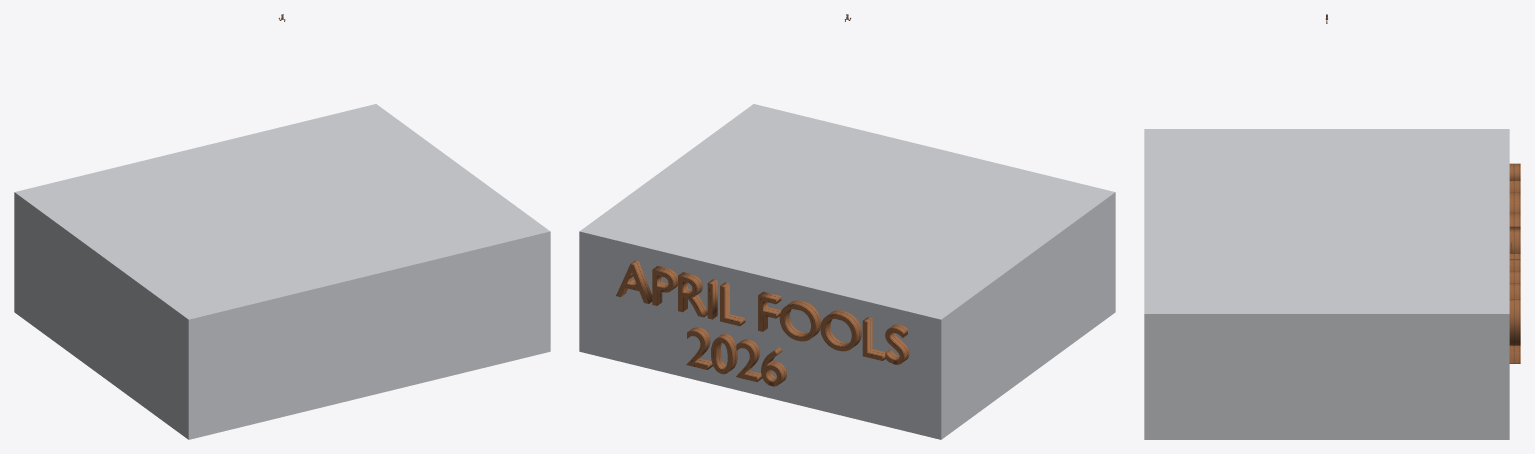
The model's file is item-bean-trophie.glb.
3 views of the same model, side by side, from view 1: azimuth 30°, elevation 25°; view 2: azimuth 150°, elevation 25°; view 3: azimuth 270°, elevation 25° (orthographic). The views are drawn at different scales.
Bounding box in the file's own units: 3.38 × 2.84 × 2.91.
3 materials, 2 textured.
